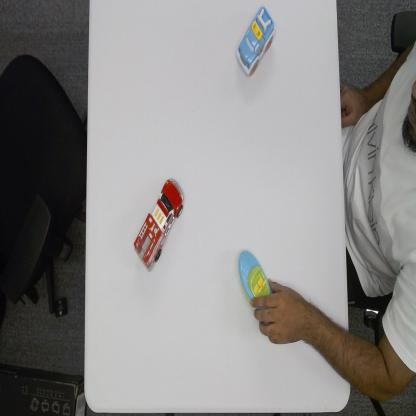Arm: (303, 304, 349, 379)
Boat: (237, 247, 274, 310)
Car: (234, 3, 276, 78)
Firetruck: (132, 176, 186, 274)
Hand: (250, 277, 304, 345)
